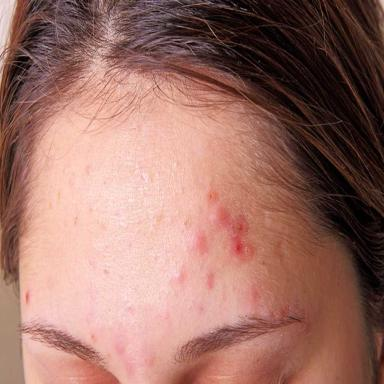acne: (218, 206, 256, 258), (197, 234, 209, 254), (207, 272, 215, 289), (115, 341, 124, 354), (178, 270, 185, 284), (208, 191, 217, 201), (126, 360, 134, 371), (25, 290, 30, 305)
